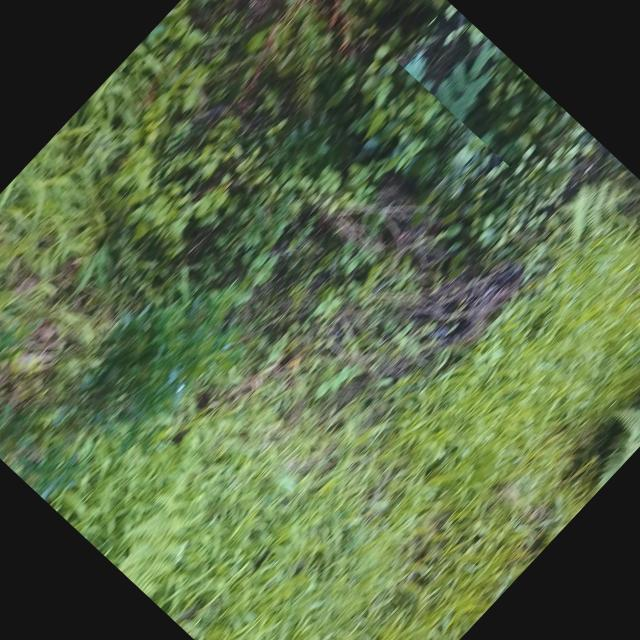Mysore-Thorn-Weed: (396, 3, 564, 168)
